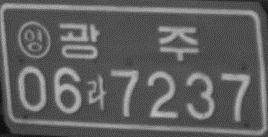0: (16, 66, 48, 113)
2: (145, 70, 180, 118)
3: (184, 72, 216, 120)
6: (52, 66, 83, 114)
7: (109, 69, 140, 118), (220, 72, 250, 122)
광주_D: (58, 22, 199, 62)
라: (86, 75, 107, 111)
영: (16, 20, 52, 60)
